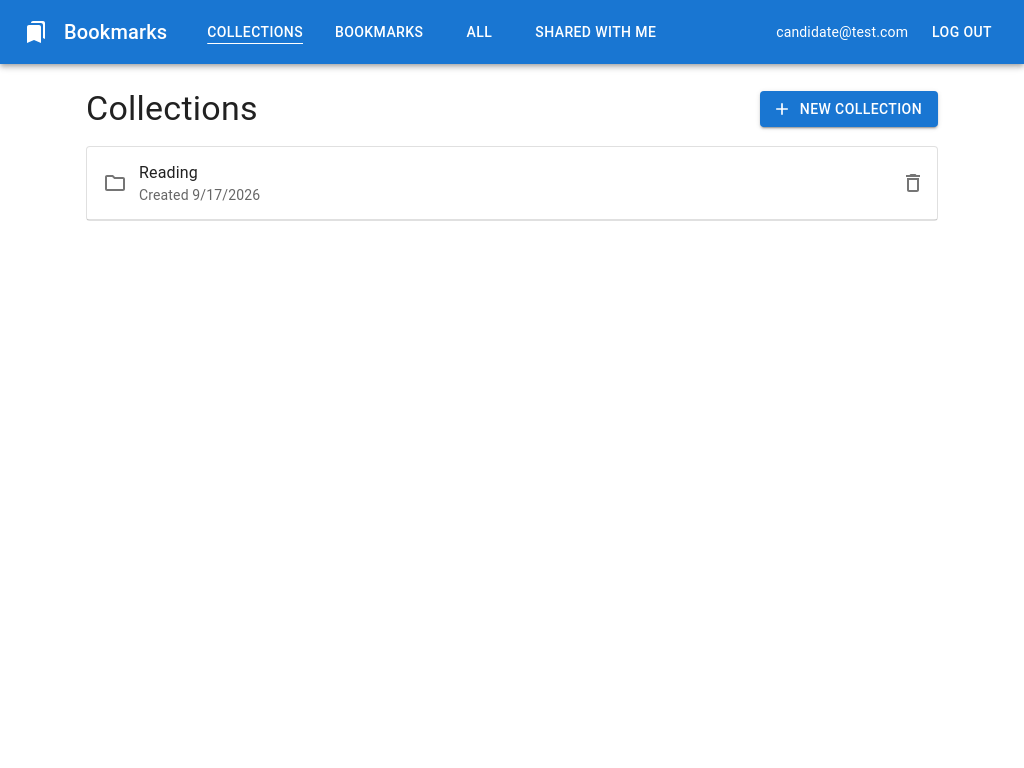
Test: /collections › delete confirmation (ADR-005b, ADR-018i) › non-empty collection: 409 shows the exact count, second confirmation retries with confirm=true
The image size is (1024, 768).
Click the button named "Delete Reading".
click(913, 183)  # box [893,163,933,203]
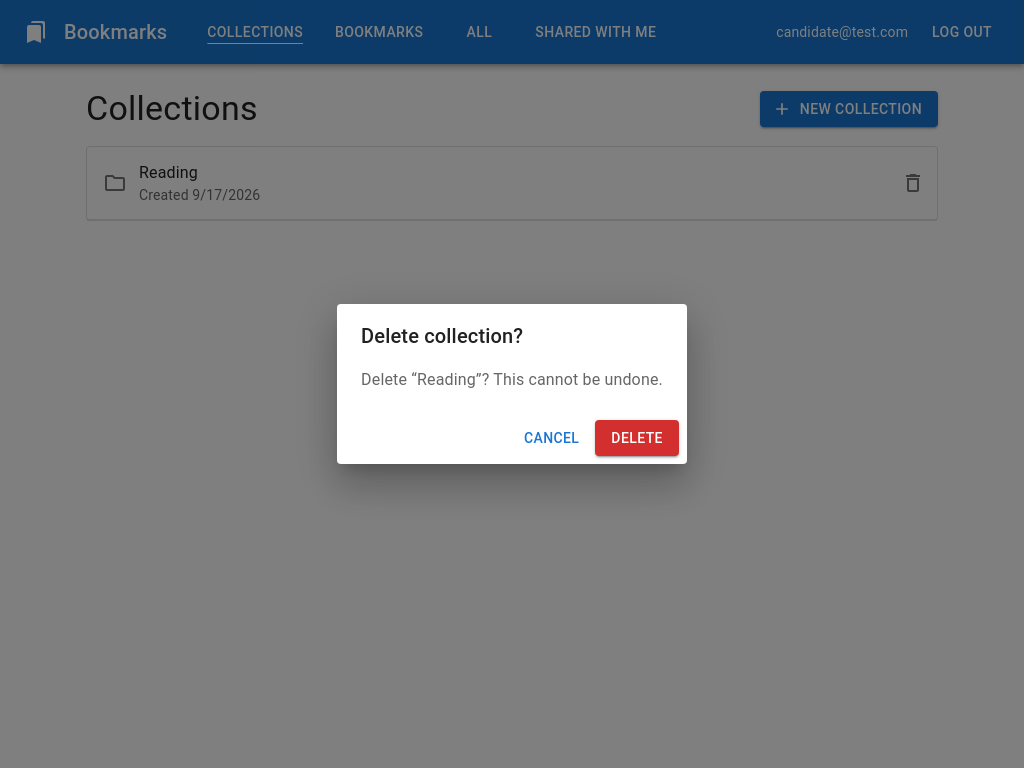
Click the button "Delete".
click(637, 438)  # box [595,420,679,456]
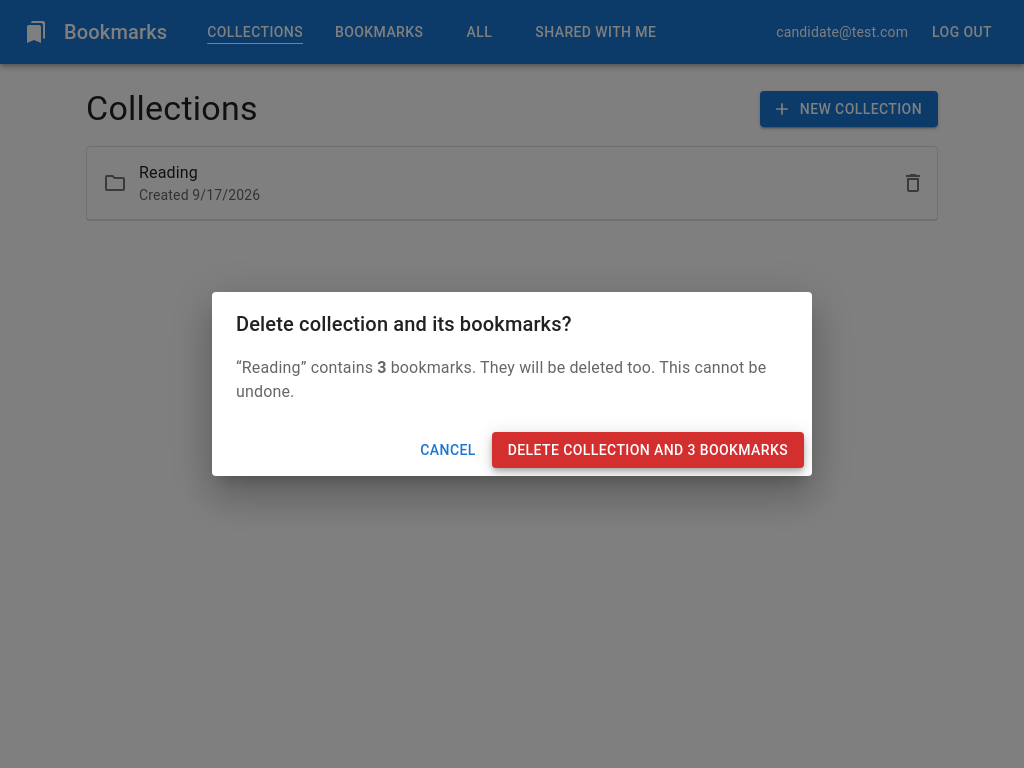
Check: the dialog "Delete collection and its bookmarks?" shows "contains 3 bookmarks. They will be deleted too.", box [212,292,812,476]
Click the button "Delete collection and 3 bookmarks".
click(648, 450)  # box [492,432,804,468]
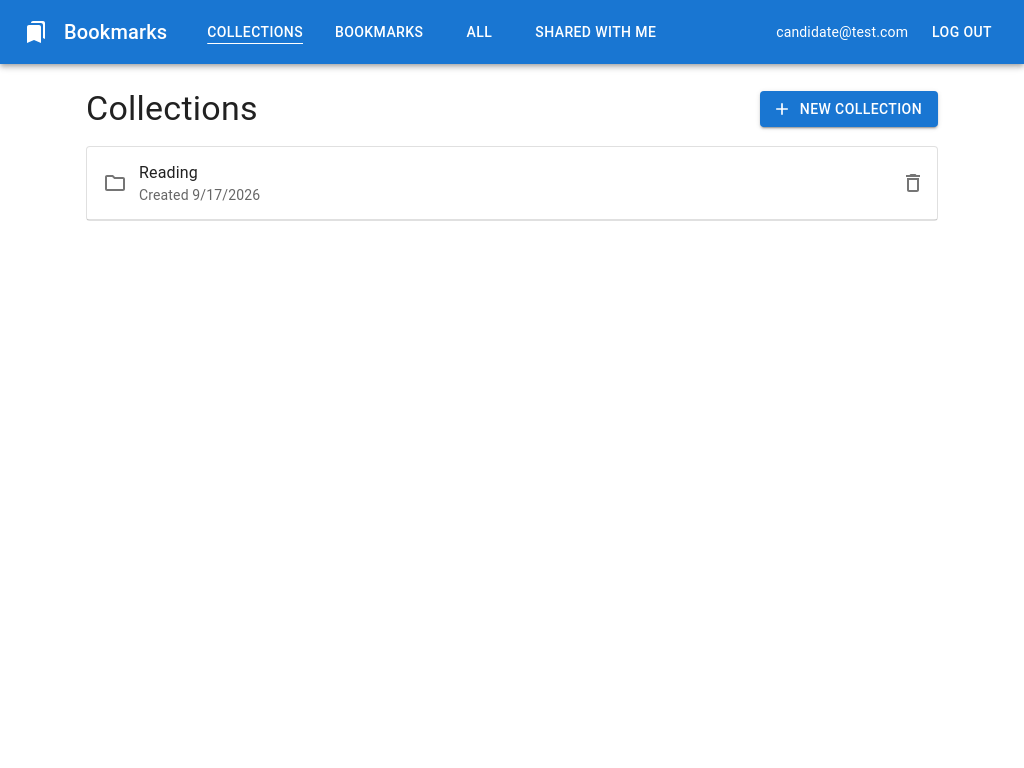
Check: the dialog is gone
